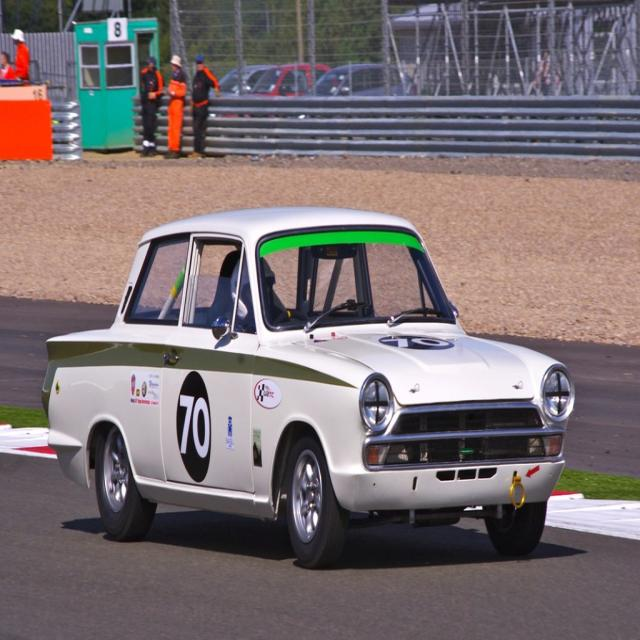car: (49, 204, 574, 573)
